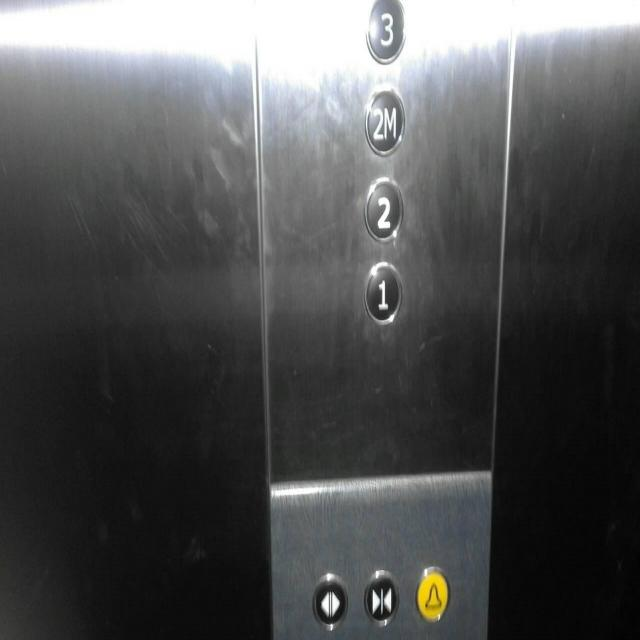1: (362, 258, 404, 327)
2: (362, 174, 404, 243)
2M: (362, 82, 406, 158)
3: (363, 0, 407, 68)
alarm: (412, 564, 452, 625)
close: (362, 566, 401, 628)
open: (310, 570, 348, 632)
